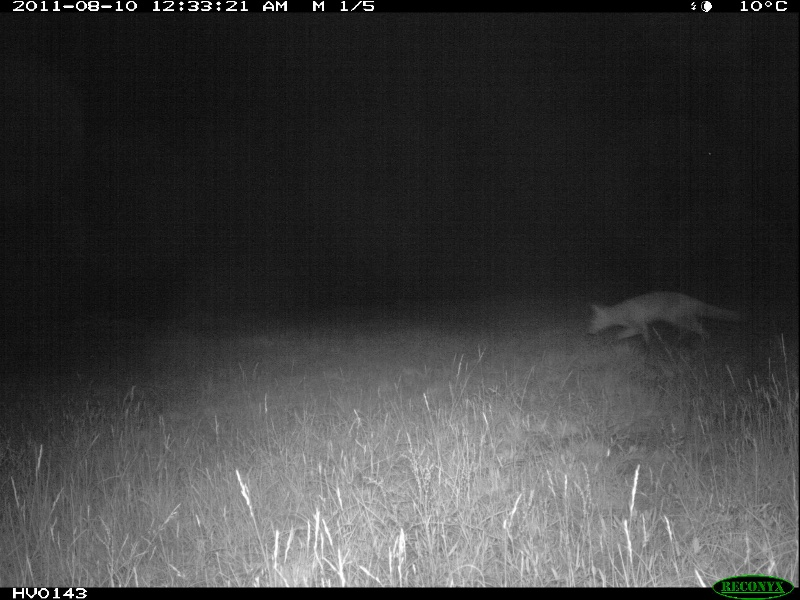fox: (590, 293, 747, 352)
